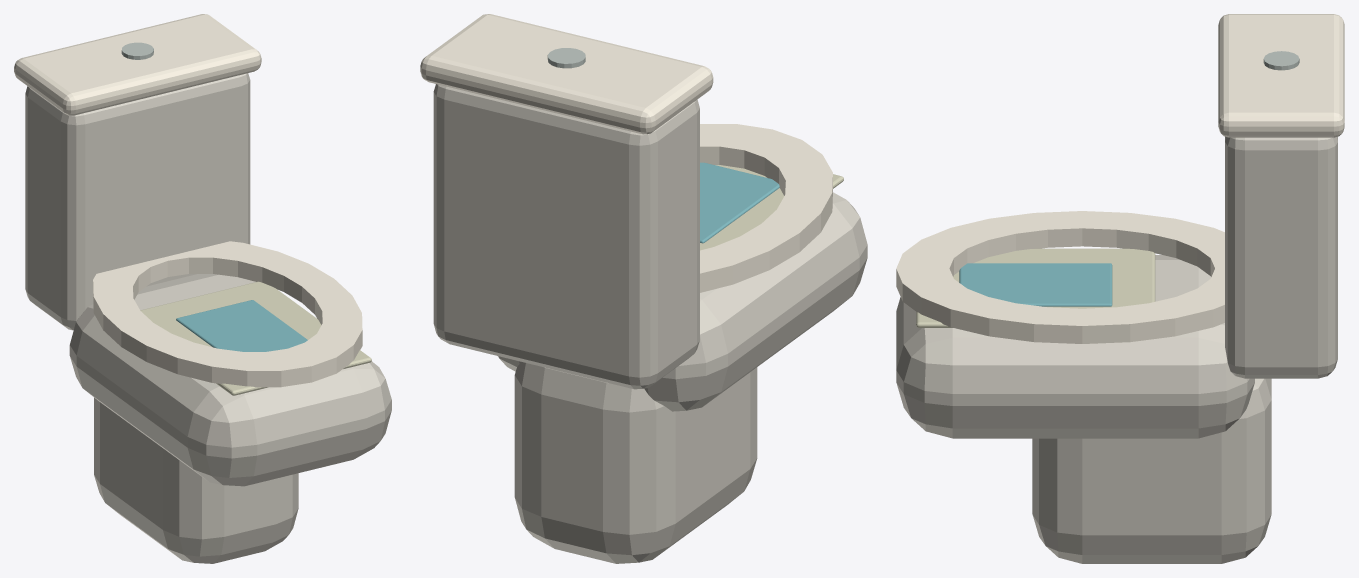
File: toilet.glb
The picture shows the model from 3 angles, left to right: view 1: azimuth 30°, elevation 25°; view 2: azimuth 150°, elevation 25°; view 3: azimuth 270°, elevation 25°; orthographic projection. The views are drawn at different scales.
Visible parts, largest first — view 1: toilet__ceramic, toilet__white, toilet__stone, toilet__water, toilet__steel; view 2: toilet__ceramic, toilet__white, toilet__water, toilet__stone, toilet__steel; view 3: toilet__ceramic, toilet__white, toilet__water, toilet__stone, toilet__steel.
Part boxes in pixels (x1,y1,x2,y2): toilet__ceramic: [25, 73, 391, 563]; toilet__white: [14, 14, 362, 387]; toilet__stone: [140, 281, 371, 395]; toilet__water: [176, 300, 307, 351]; toilet__steel: [121, 42, 153, 59]; toilet__ceramic: [433, 84, 867, 563]; toilet__white: [420, 14, 832, 292]; toilet__water: [700, 162, 779, 243]; toilet__stone: [700, 165, 843, 250]; toilet__steel: [547, 48, 585, 68]; toilet__ceramic: [896, 136, 1337, 563]; toilet__white: [896, 14, 1344, 343]; toilet__water: [959, 263, 1112, 306]; toilet__stone: [916, 248, 1155, 327]; toilet__steel: [1263, 51, 1299, 70].
Size of the model in its own units: 0.41 by 0.8085 by 0.675.
